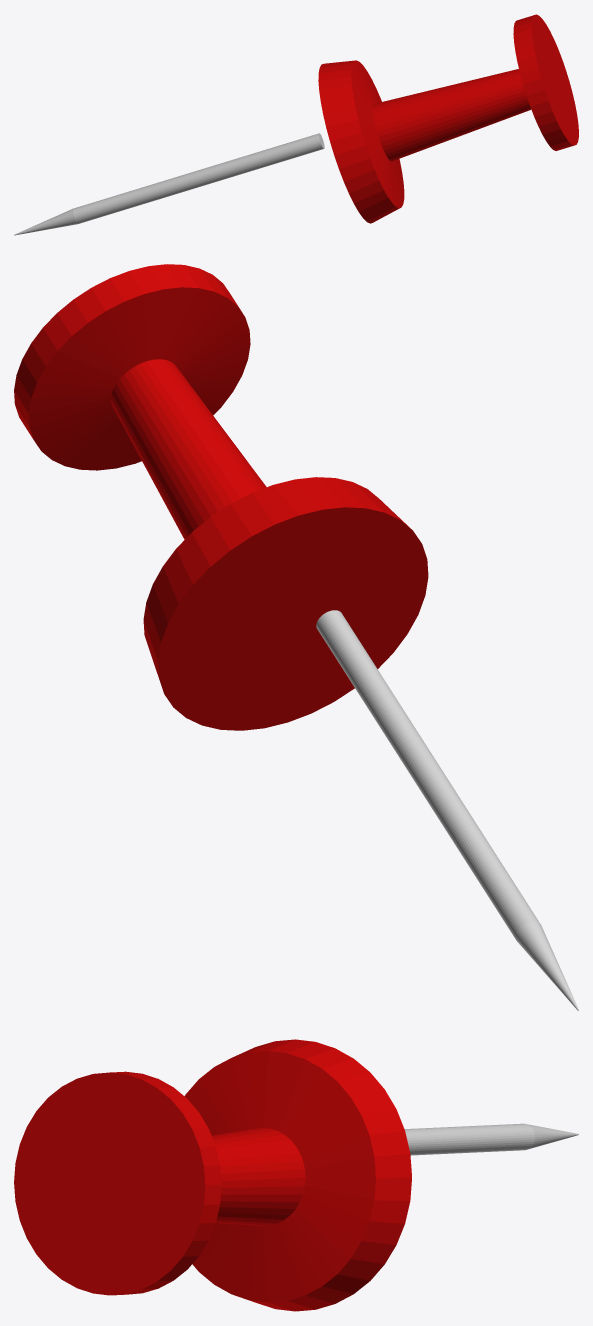
File: pin.fbx
3 renders of one model, top to bottom at view 1: azimuth 30°, elevation 25°; view 2: azimuth 150°, elevation 25°; view 3: azimuth 270°, elevation 25°, orthographic. The views are drawn at different scales.
Visible parts, largest first — view 1: Cylinder, Cylin; view 2: Cylinder, Cylin; view 3: Cylinder, Cylin.
Boxes of the visible parts, box(x1,y1,x2,y2) form: Cylinder: box(318, 14, 578, 223); Cylin: box(14, 133, 324, 235); Cylinder: box(14, 264, 428, 730); Cylin: box(316, 610, 578, 1010); Cylinder: box(14, 1039, 411, 1311); Cylin: box(404, 1123, 578, 1155).
Bounding box in the file's own units: 306 × 150 × 212.
